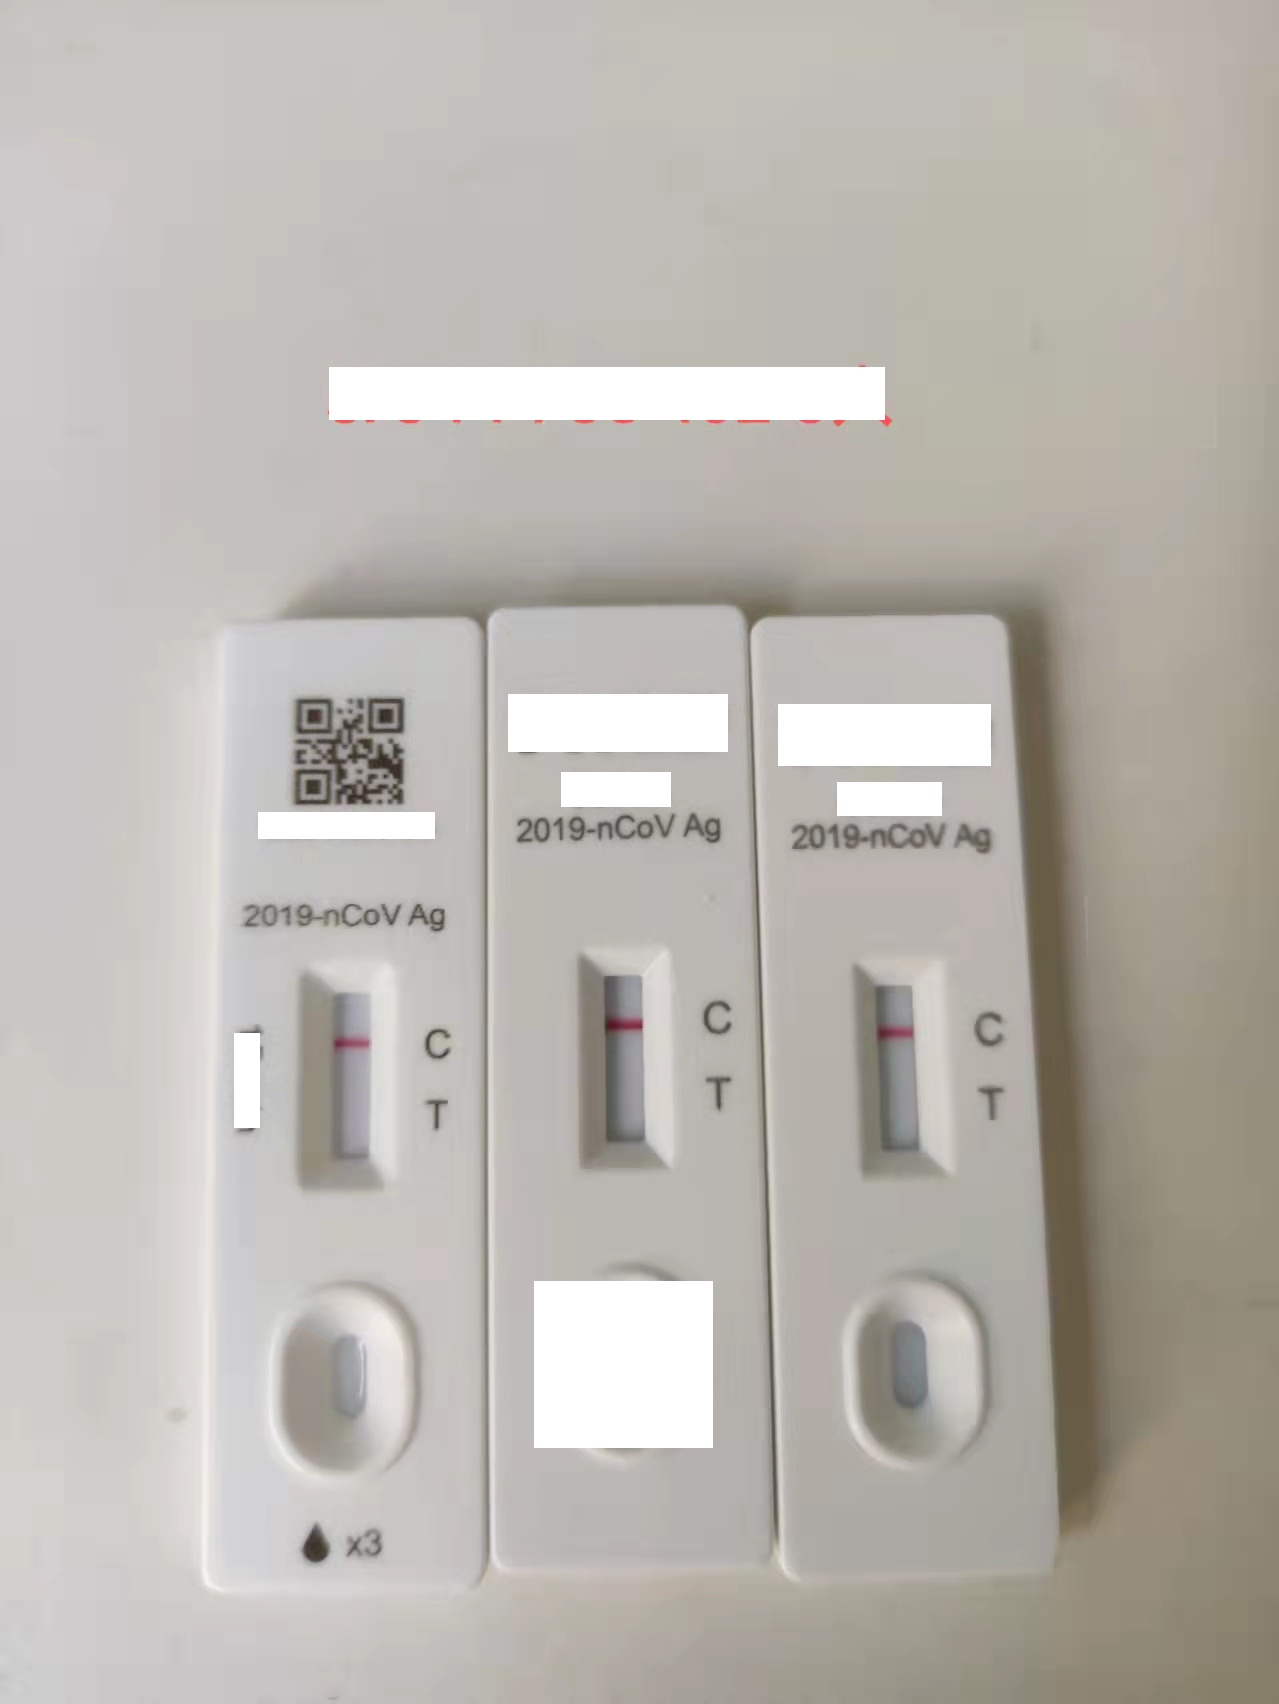negative: (300, 961, 392, 1190), (576, 947, 670, 1167), (854, 956, 947, 1174)
